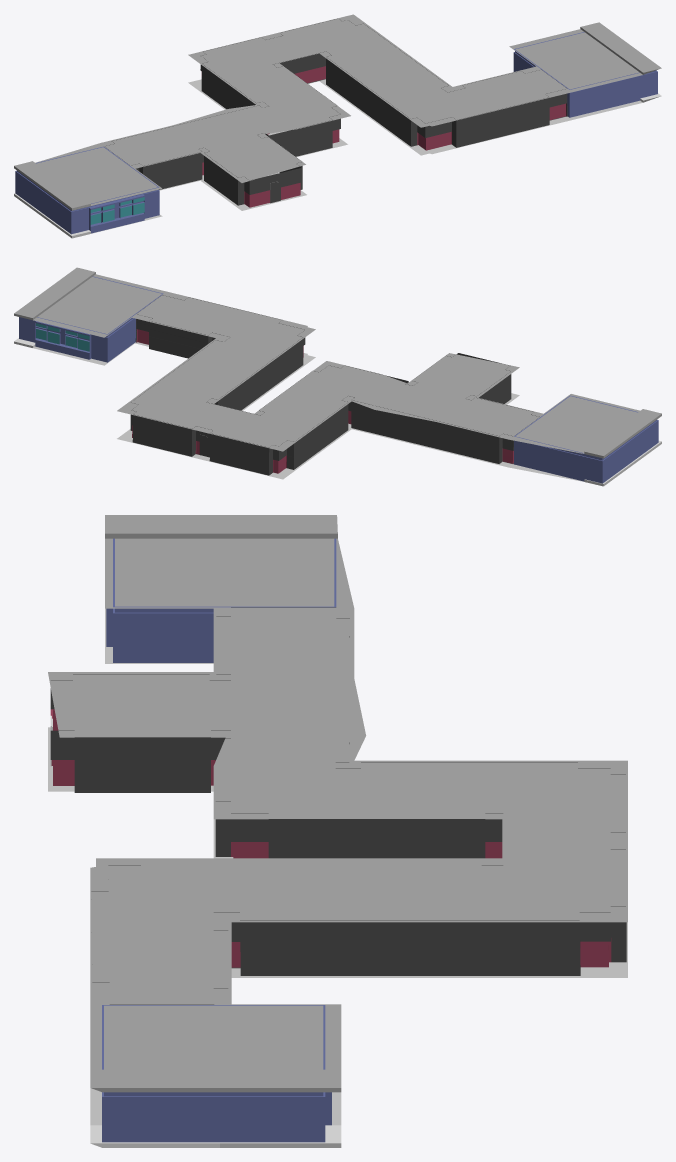
The model's file is Hallwayfortexture.fbx.
3 renders of one model, top to bottom at view 1: azimuth 30°, elevation 25°; view 2: azimuth 150°, elevation 25°; view 3: azimuth 270°, elevation 25°, orthographic. The views are drawn at different scales.
Parts seen in each view (by area): view 1: Floor1, hallway, room2, room1, Floor; view 2: Floor1, hallway, room2, room1, Floor; view 3: Floor1, hallway, room1, room2, Floor.
Boxes of the visible parts, bbox=[...] form: Floor1: bbox=[14, 14, 661, 210]; hallway: bbox=[105, 18, 567, 207]; room2: bbox=[15, 146, 159, 234]; room1: bbox=[513, 32, 657, 117]; Floor: bbox=[14, 79, 661, 238]; Floor1: bbox=[14, 267, 661, 458]; hallway: bbox=[130, 295, 539, 475]; room2: bbox=[514, 395, 658, 483]; room1: bbox=[19, 276, 163, 362]; Floor: bbox=[14, 338, 661, 486]; Floor1: bbox=[48, 515, 627, 1092]; hallway: bbox=[50, 607, 626, 988]; room1: bbox=[102, 1005, 331, 1142]; room2: bbox=[106, 538, 336, 662]; Floor: bbox=[48, 608, 627, 1147].
Bounding box in the file's own units: 5356 × 282 × 2296.
